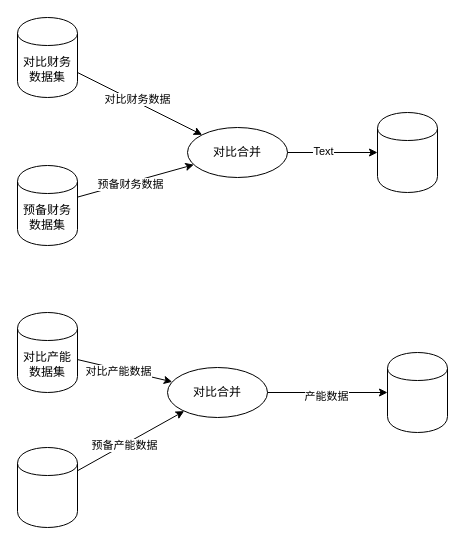
The diagram is 465 pixels wide and 545 high, and some of its shapes have lost their labels. The centre of each missing label's shape, as x and y in pixels:
产能数据集: pixel 417 392
财务数据集: pixel 407 152
预备产能数据集: pixel 47 487
